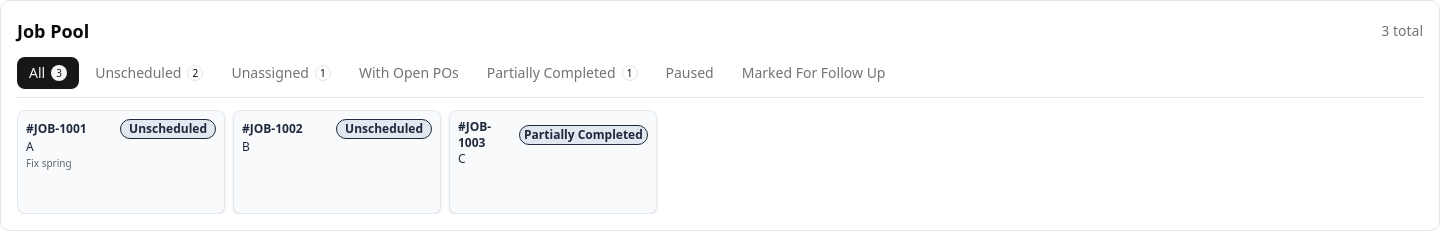
Test: JobPool › switches to partially completed tab
Click the button with test id "pool-tab-partiallyCompleted" at (562, 73), box 475,57 -> 650,89
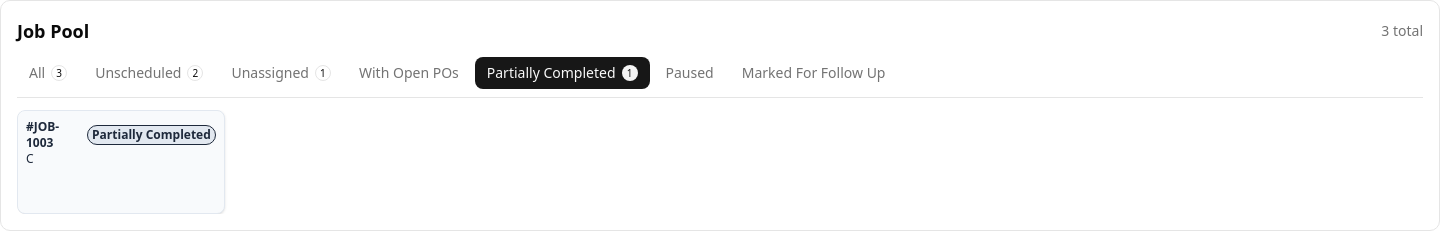
Check: the text "#JOB-1003" is shown, box 26,118 -> 59,151
Check: the text "#JOB-1001" is gone
